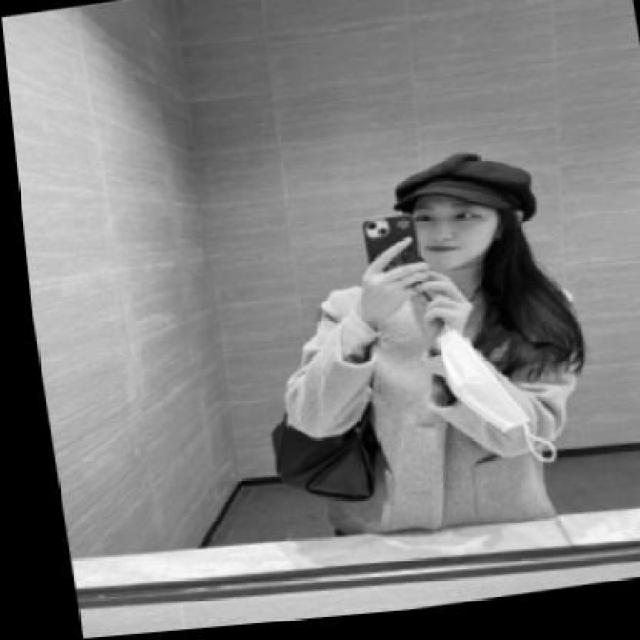hat: (379, 148, 532, 230)
